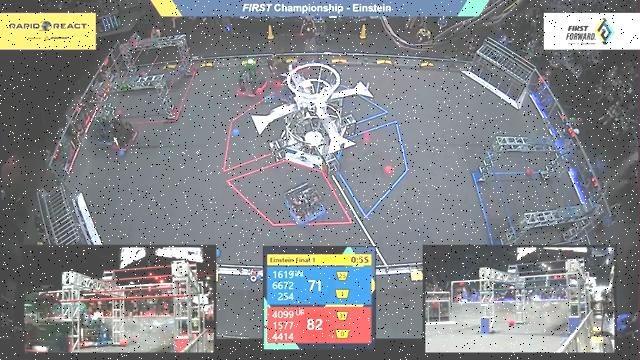Robot: (282, 182, 328, 227), (266, 49, 303, 89), (109, 114, 143, 157), (232, 63, 266, 101), (90, 109, 119, 149)
